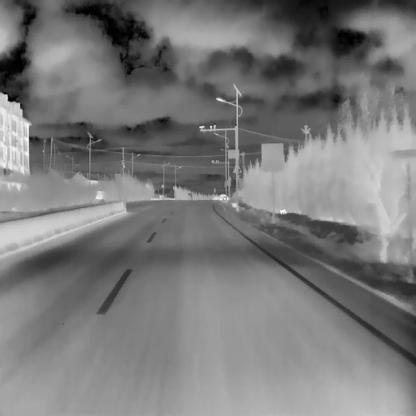car: (219, 192, 229, 200)
